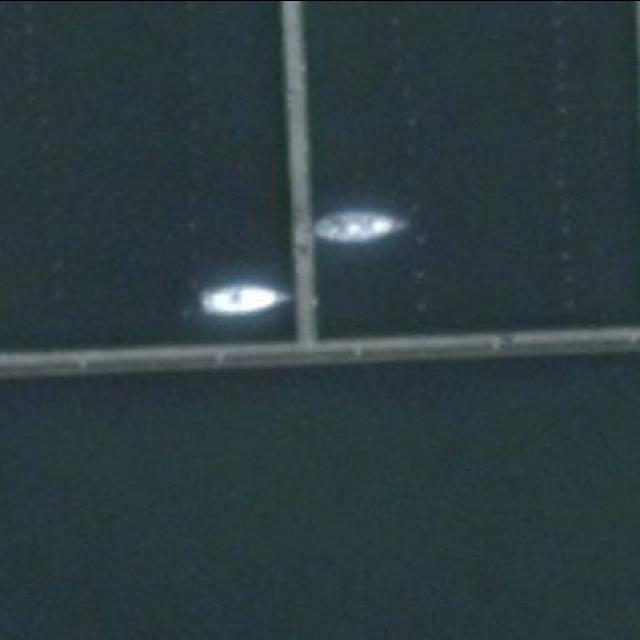ship: (190, 276, 296, 318), (307, 202, 417, 242)
